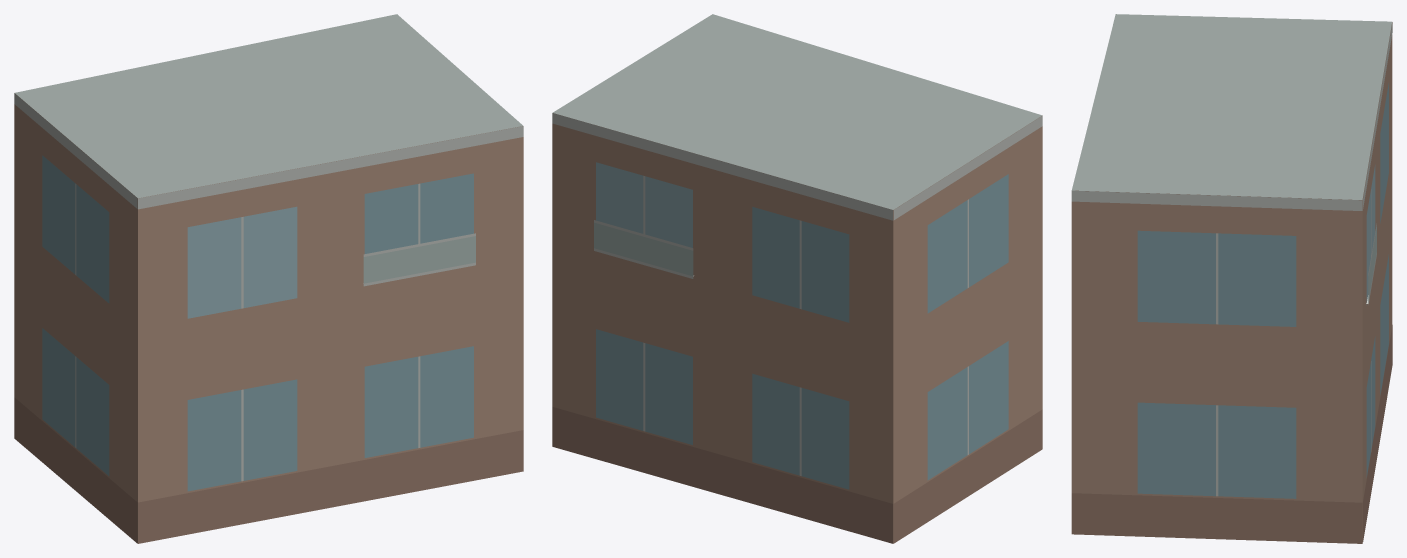
File: survey-upis-32544810.glb
3 views of the same model, side by side, from view 1: azimuth 30°, elevation 25°; view 2: azimuth 150°, elevation 25°; view 3: azimuth 270°, elevation 25° (orthographic). The views are drawn at different scales.
Parts seen in each view (by area): view 1: survey-upis-32544810.tmp; view 2: survey-upis-32544810.tmp; view 3: survey-upis-32544810.tmp.
Part boxes in pixels (<box>): survey-upis-32544810.tmp: <box>14,14,523,543</box>; survey-upis-32544810.tmp: <box>552,14,1042,543</box>; survey-upis-32544810.tmp: <box>1071,14,1392,543</box>.
Size of the model in its own units: 8.83 by 7.6 by 6.44.
